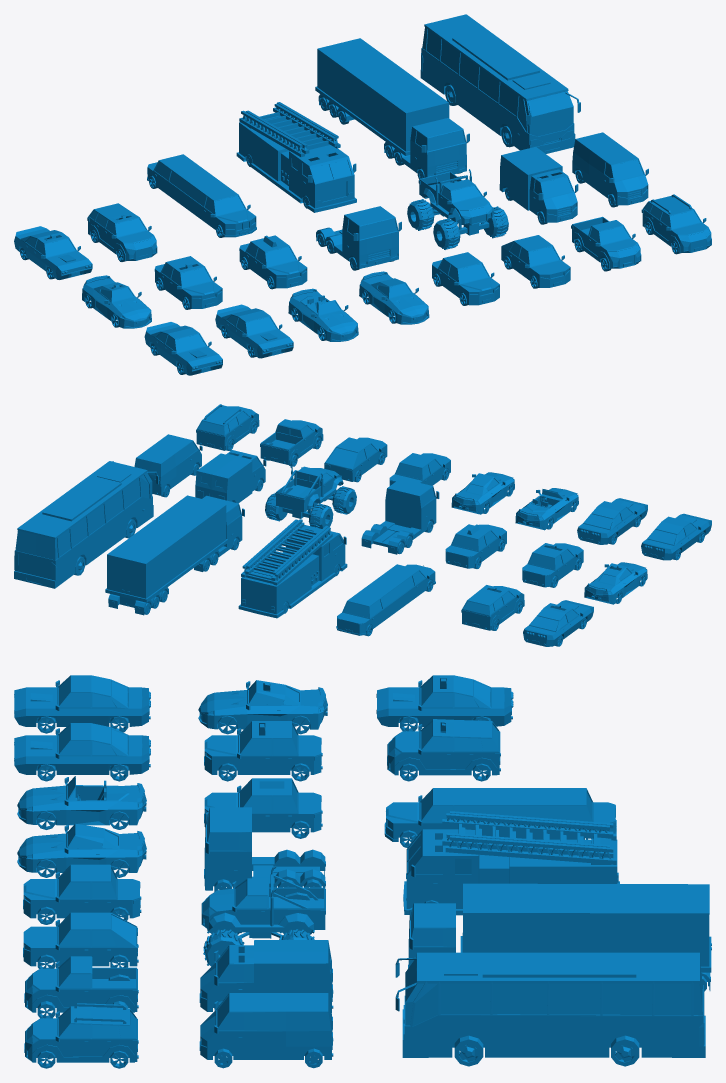
Rendered from Free_Low_Poly_Vehicles_Pack.glb.
3 views of the same model, one above another, from view 1: azimuth 30°, elevation 25°; view 2: azimuth 150°, elevation 25°; view 3: azimuth 270°, elevation 25° (orthographic). The views are drawn at different scales.
Parts seen in each view (by area): view 1: Bus_body light blue_0, Truck with trailer_body dark yellow_0, Bus_windows_0, Firetruck_body red_0, Limousine_body black_0, Ambulance_body white_0, Firetruck_body grey_0, Van_body dark blue_0, Truck_body dark green_0, Truck with trailer_body dark blue_0, Muscle_body light yellow_0, SUV_body dark purple_0 (+29 smaller); view 2: Bus_body light blue_0, Truck with trailer_body dark yellow_0, Firetruck_body grey_0, Truck_body dark green_0, Firetruck_body red_0, Limousine_body black_0, Bus_windows_0, Ambulance_body white_0, Van_body dark blue_0, Monster Truck_body light blue_0, Pickup_body dark green_0, Muscle_body light yellow_0 (+29 smaller); view 3: Bus_body light blue_0, Truck with trailer_body dark yellow_0, Bus_windows_0, Van_body dark blue_0, Firetruck_body grey_0, Firetruck_body red_0, Ambulance_body white_0, Limousine_body black_0, Truck_body dark green_0, Muscle_body light yellow_0, Monster Truck_body light blue_0, SUV_body dark purple_0 (+34 smaller).
Part boxes in pixels (x1,y1,x2,y2): Bus_body light blue_0: [420, 14, 575, 153]; Truck with trailer_body dark yellow_0: [317, 38, 449, 151]; Bus_windows_0: [422, 27, 571, 134]; Firetruck_body red_0: [239, 122, 356, 208]; Limousine_body black_0: [147, 154, 256, 237]; Ambulance_body white_0: [499, 147, 578, 222]; Firetruck_body grey_0: [236, 102, 356, 212]; Van_body dark blue_0: [572, 132, 648, 205]; Truck_body dark green_0: [316, 206, 401, 268]; Truck with trailer_body dark blue_0: [384, 118, 469, 177]; Muscle_body light yellow_0: [215, 304, 293, 358]; SUV_body dark purple_0: [642, 195, 711, 252]; Bus_body light blue_0: [14, 461, 153, 588]; Truck with trailer_body dark yellow_0: [107, 495, 226, 609]; Firetruck_body grey_0: [238, 519, 347, 618]; Truck_body dark green_0: [361, 478, 439, 551]; Firetruck_body red_0: [241, 525, 346, 614]; Limousine_body black_0: [336, 564, 435, 635]; Bus_windows_0: [15, 472, 157, 560]; Ambulance_body white_0: [195, 450, 266, 503]; Van_body dark blue_0: [134, 434, 202, 495]; Monster Truck_body light blue_0: [276, 466, 343, 512]; Pickup_body dark green_0: [260, 419, 323, 464]; Muscle_body light yellow_0: [577, 498, 647, 544]; Bus_body light blue_0: [402, 952, 705, 1057]; Truck with trailer_body dark yellow_0: [462, 883, 710, 981]; Bus_windows_0: [397, 960, 702, 1026]; Van_body dark blue_0: [199, 993, 332, 1059]; Firetruck_body grey_0: [403, 811, 619, 915]; Firetruck_body red_0: [406, 829, 617, 908]; Ambulance_body white_0: [199, 940, 332, 1012]; Limousine_body black_0: [384, 788, 616, 841]; Truck_body dark green_0: [204, 807, 325, 890]; Muscle_body light yellow_0: [14, 723, 149, 774]; Monster Truck_body light blue_0: [201, 878, 325, 932]; SUV_body dark purple_0: [24, 1006, 137, 1062].
Bounding box in the file's own units: 37.81 × 4.3 × 30.82.
